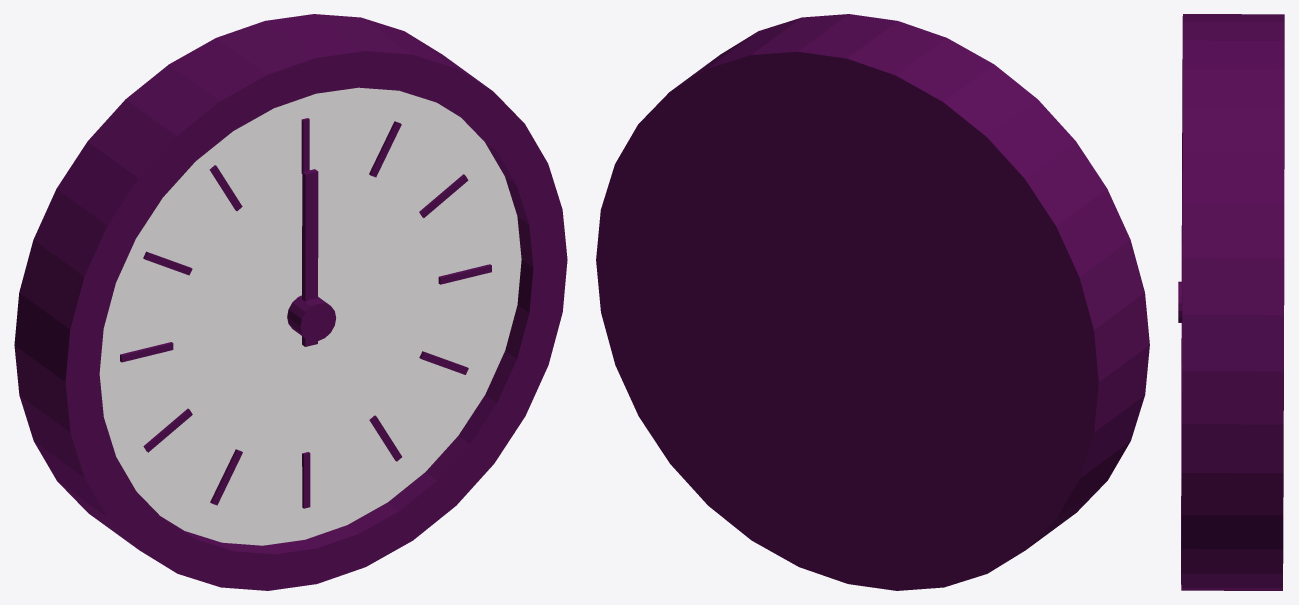
The model's file is clock.glb.
3 renders of one model, left to right at view 1: azimuth 30°, elevation 25°; view 2: azimuth 150°, elevation 25°; view 3: azimuth 270°, elevation 25°, orthographic.
Visible parts, largest first — view 1: Obj_Clock_0.002, Hora; view 2: Obj_Clock_0.002; view 3: Obj_Clock_0.002.
Part boxes in pixels (box(x1,y1,x2,y2)): Obj_Clock_0.002: box(14, 14, 567, 590); Hora: box(302, 169, 318, 346); Obj_Clock_0.002: box(596, 14, 1149, 590); Obj_Clock_0.002: box(1178, 14, 1284, 590).
Bounding box in the file's own units: 0.7414 × 0.7419 × 0.1365.
1 material, 1 textured.
